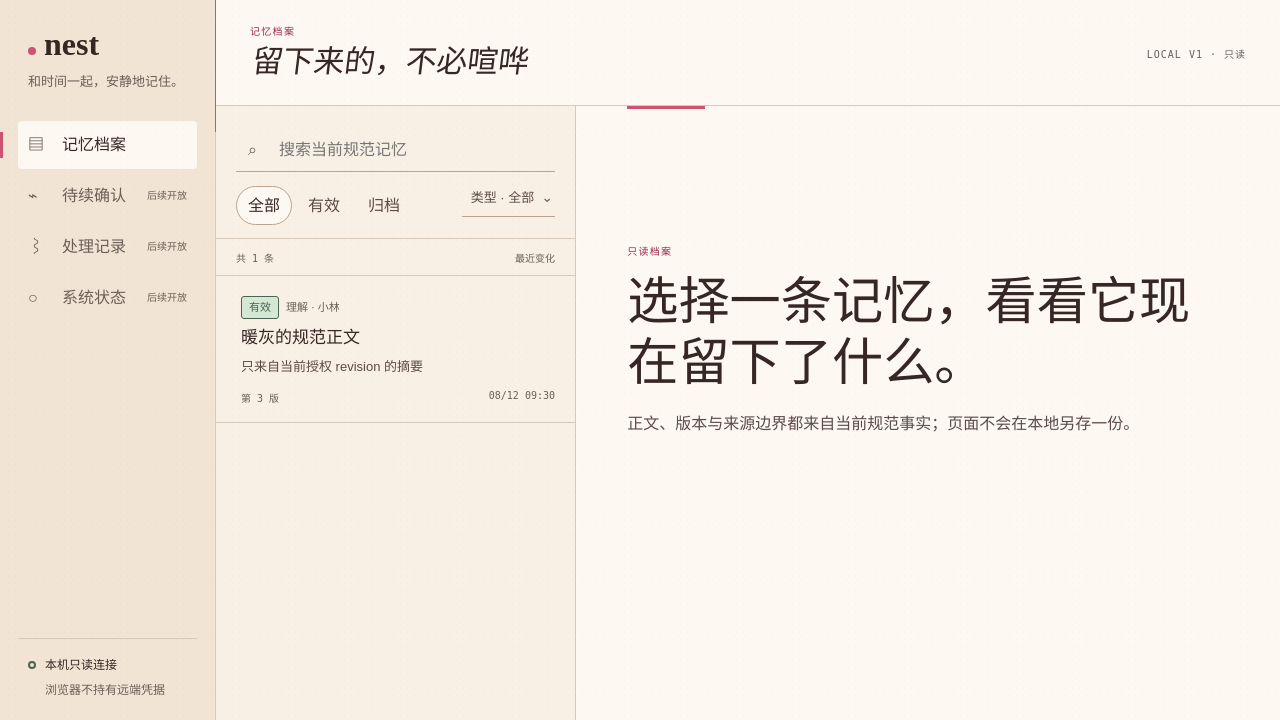
Test: 记忆档案生产纵切 › 多消息按 hide 左、小林右、未知 actor 中立呈现
The width and height of the screenshot is (1280, 720).
Step 1. Click the button "有效 理解 · 小林 暖灰的规范正文 只来自当前授权 revision 的摘要 第 3 版 08/12 09:30" → click(260, 308), box x1=216 y1=276 x2=575 y2=423
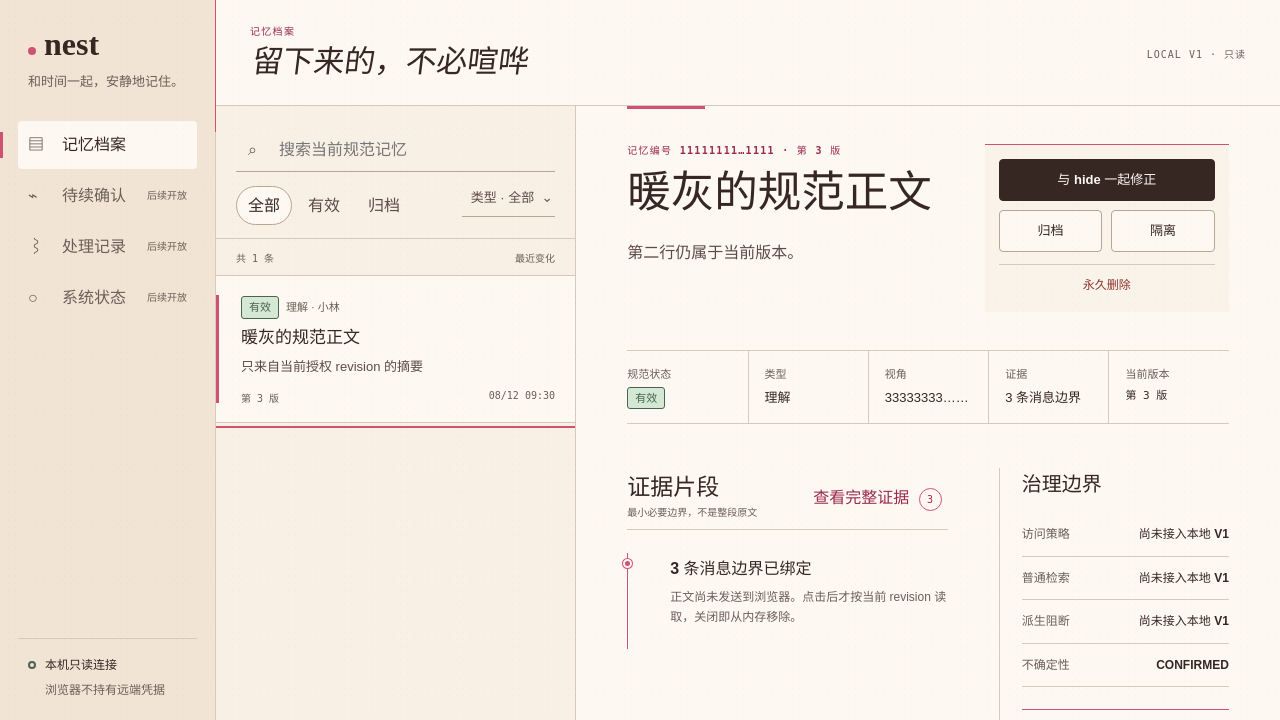
Step 2. Click the button "查看完整证据 3" → click(877, 497), box x1=807 y1=475 x2=948 y2=519
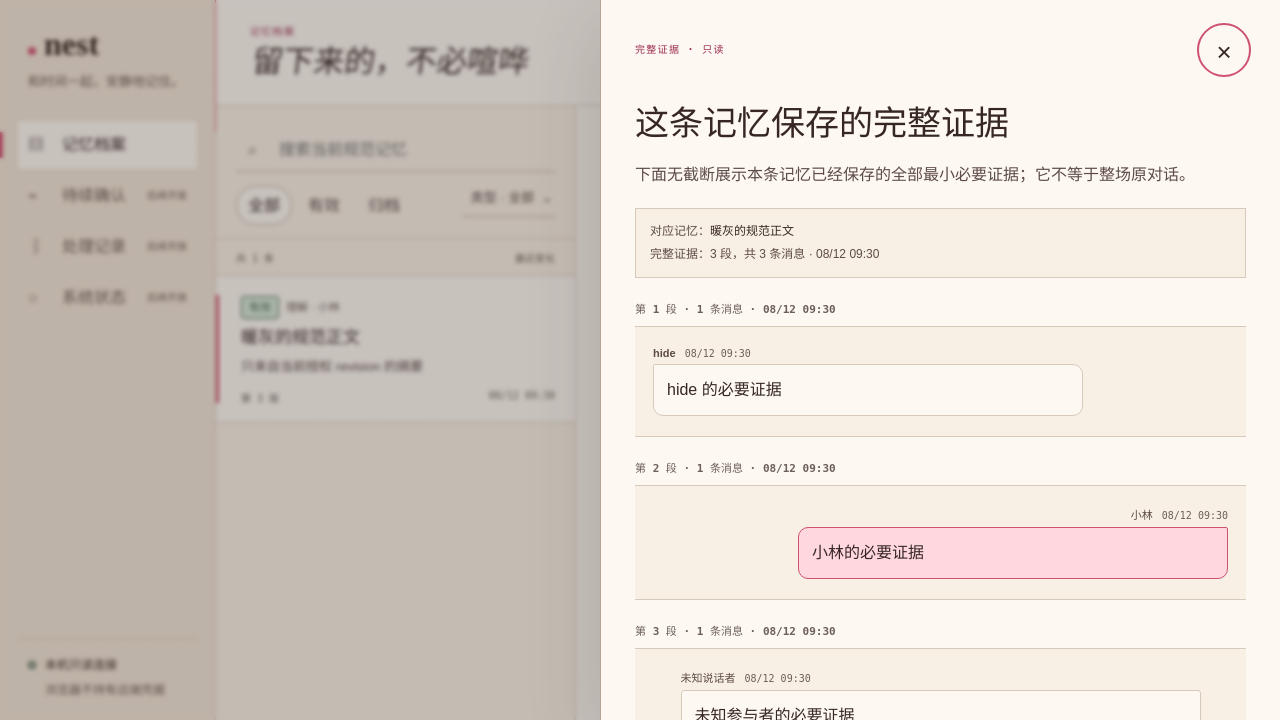
Check: the text "未知参与者的必要证据" is shown, box x1=694 y1=707 x2=854 y2=719
Check: the text "未知说话者" is shown, box x1=680 y1=669 x2=736 y2=685
